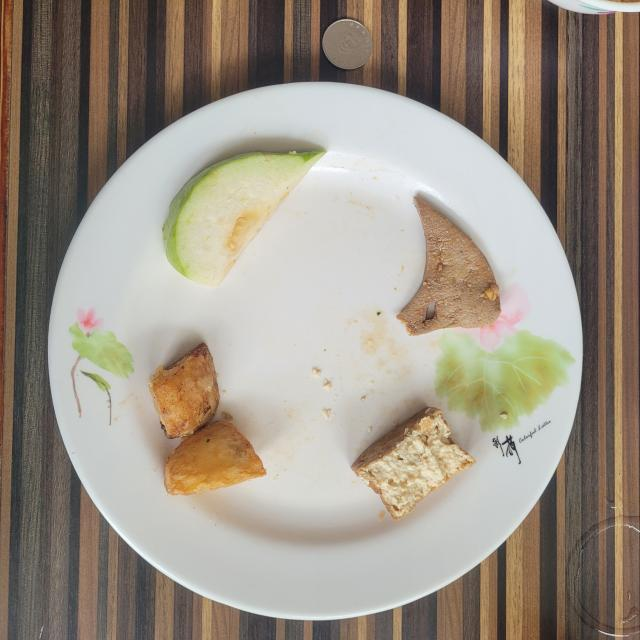coin: (322, 19, 372, 70)
egg tofu: (351, 408, 475, 520)
fried potato: (149, 342, 266, 495)
guava -sliced-: (162, 150, 325, 286)
pig liver: (396, 196, 501, 335)
